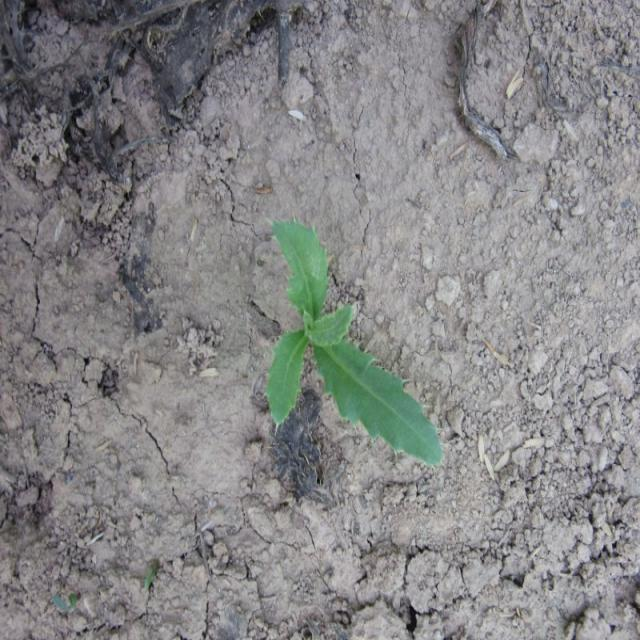field_thistle: (249, 211, 454, 481)
